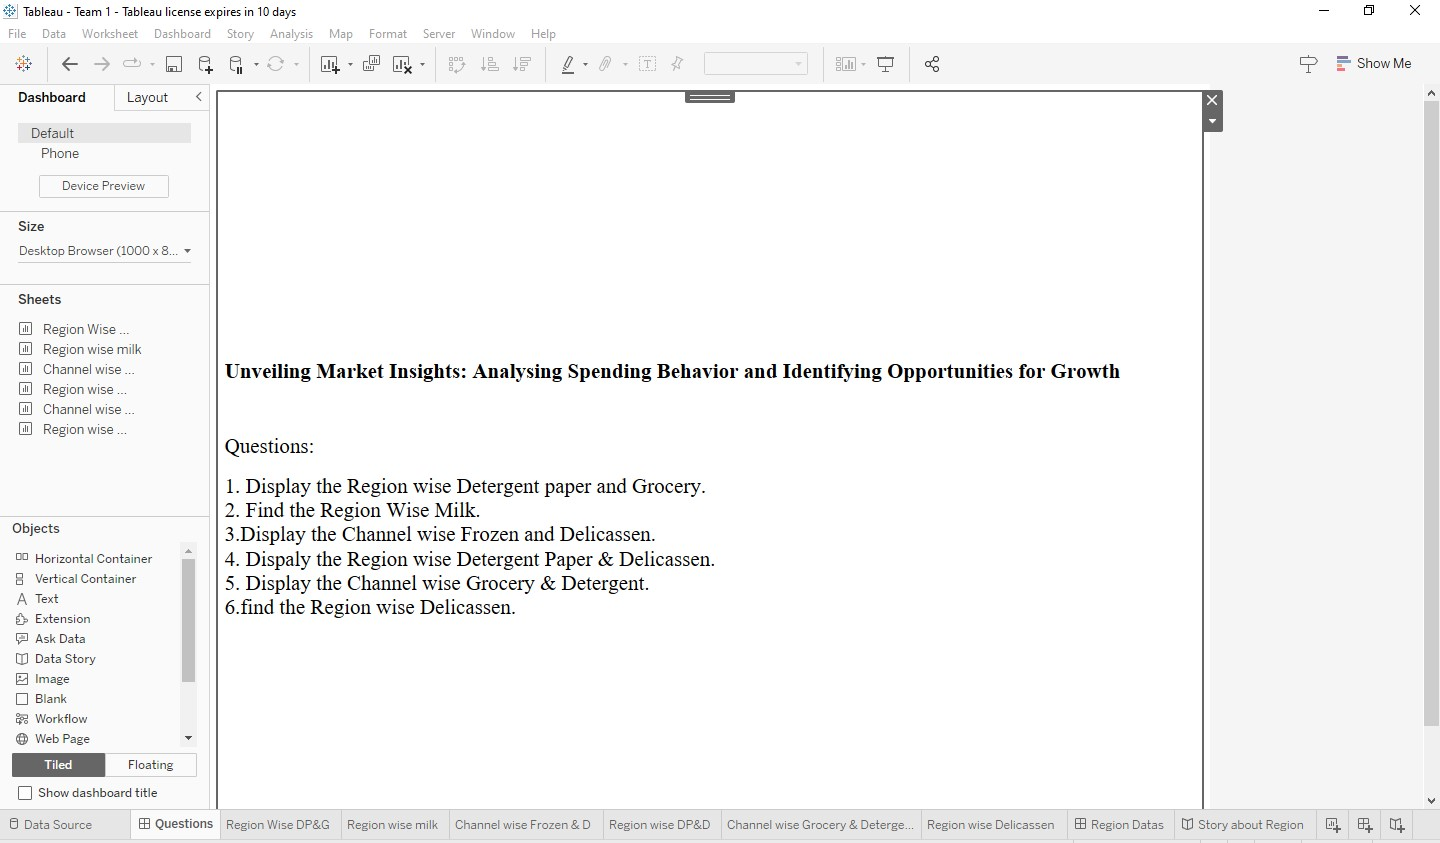

The dashboard page shown, as its layout file describes it:
{"tool":"tableau","page":{"name":"Questions","canvas":[1000,800],"ordinal":0},"visuals":[{"type":"text","box":[8,8,984,784]}]}

Visuals, with their boxes on the page's 1000x800 design canvas (x1, y1, x2, y2). These are canvas units, not pixel positions in the 1440x843 screenshot, which may show the page scaled, cropped or inside an application window:
text: [left=8, top=8, right=992, bottom=792]
